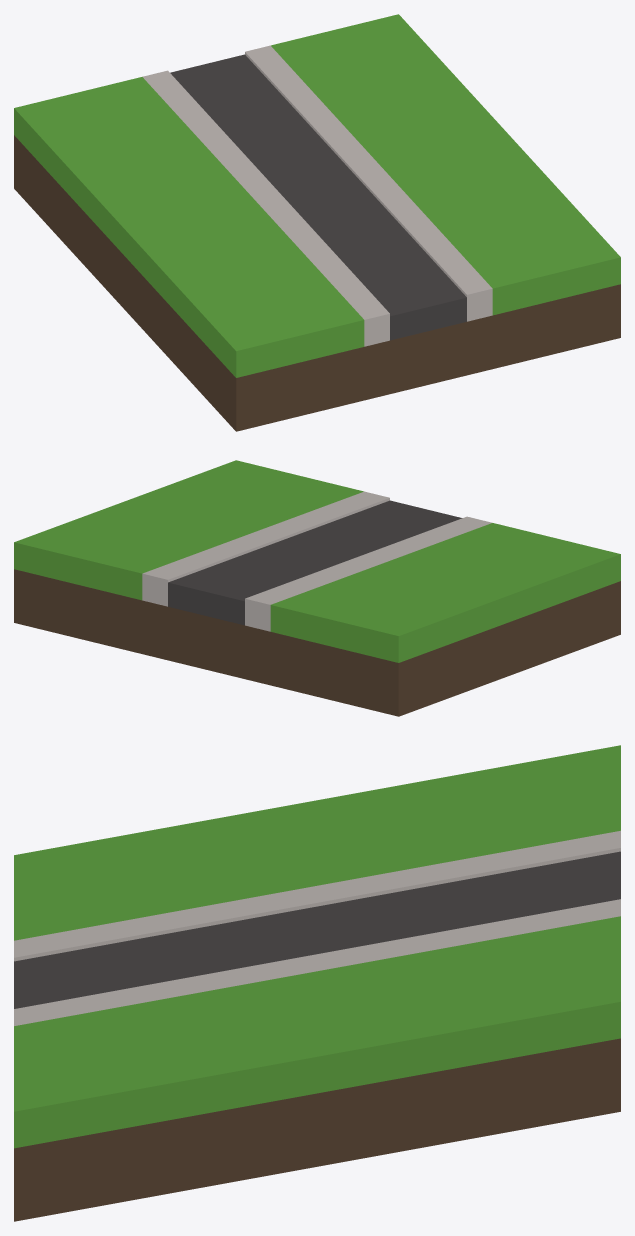
Rendered from tile-road-hill.glb.
The picture shows the model from 3 angles, top to bottom: view 1: azimuth 30°, elevation 25°; view 2: azimuth 150°, elevation 25°; view 3: azimuth 270°, elevation 25°; orthographic projection. The views are drawn at different scales.
Visible parts, largest first — view 1: tile-road-hill; view 2: tile-road-hill; view 3: tile-road-hill.
Part boxes in pixels (left/top/right/bottom): tile-road-hill: left=14, top=14, right=620, bottom=431; tile-road-hill: left=14, top=460, right=620, bottom=716; tile-road-hill: left=14, top=745, right=620, bottom=1221.
Size of the model in its own units: 30 by 12 by 30.
Materials: 1 (1 with a texture image).
